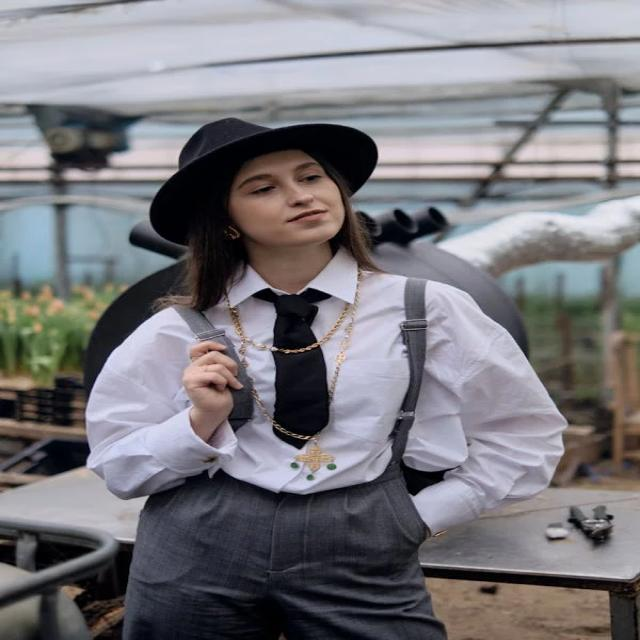Real human 2: (83, 105, 589, 640)
